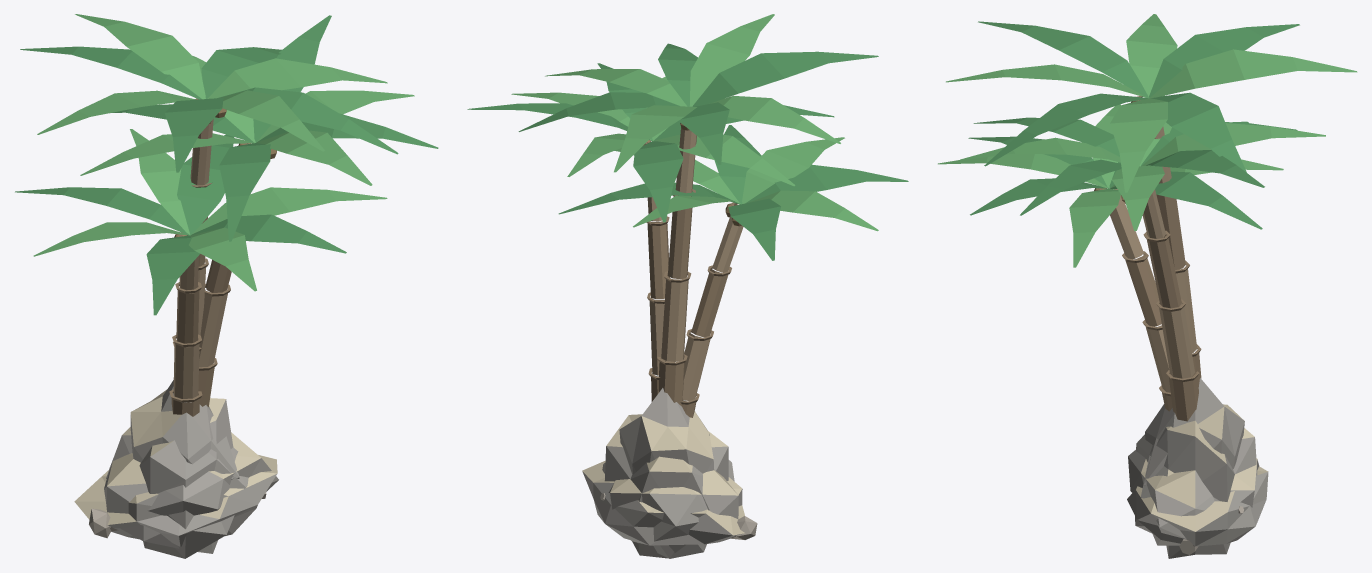
File: props.glb
The picture shows the model from 3 angles, left to right: view 1: azimuth 30°, elevation 25°; view 2: azimuth 150°, elevation 25°; view 3: azimuth 270°, elevation 25°; orthographic projection. The views are drawn at different scales.
Visible parts, largest first — view 1: palm_b, palm_c, palm_a, rock_b, rock_a, rock_c, rock_d, driftwood; view 2: palm_c, palm_b, palm_a, rock_d, rock_c, rock_a, rock_b; view 3: palm_c, palm_a, palm_b, rock_c, rock_b, rock_d, rock_a.
Part boxes in pixels (box(x1,y1,x2,y2)): palm_b: box(15, 129, 387, 416); palm_c: box(20, 14, 398, 353); palm_a: box(80, 15, 438, 406); rock_b: box(106, 398, 248, 558); rock_a: box(104, 432, 278, 548); rock_c: box(74, 455, 277, 546); rock_d: box(130, 380, 239, 553); driftwood: box(89, 492, 266, 538); palm_c: box(518, 14, 878, 406); palm_b: box(558, 125, 908, 417); palm_a: box(467, 63, 834, 401); rock_d: box(619, 388, 714, 558); rock_c: box(582, 460, 744, 545); rock_a: box(602, 460, 738, 544); rock_b: box(604, 414, 728, 558); palm_c: box(946, 14, 1357, 386); palm_a: box(960, 95, 1325, 421); palm_b: box(938, 104, 1283, 411); rock_c: box(1127, 466, 1268, 546); rock_b: box(1135, 420, 1257, 533); rock_d: box(1143, 378, 1244, 558); rock_a: box(1128, 450, 1259, 538).
Bounding box in the file's own units: 6.67 × 8.19 × 6.38.
